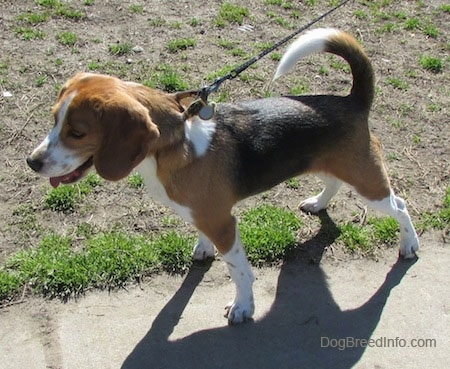dog: (22, 28, 432, 331)
